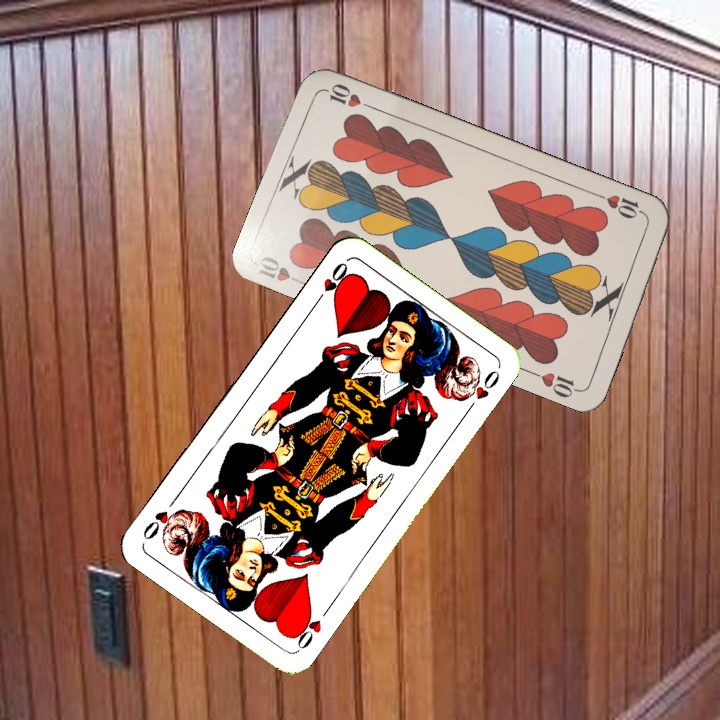H10: (254, 251, 310, 289), (593, 190, 650, 222)
HO: (288, 602, 334, 653), (310, 258, 351, 309)
